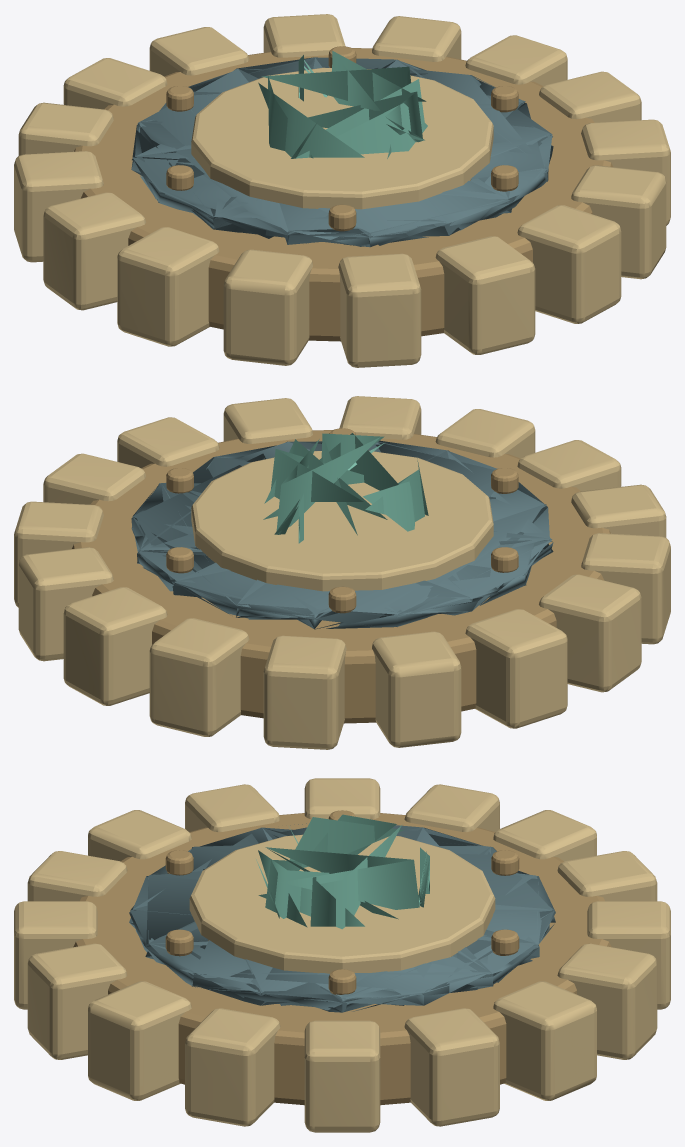
File: core.glb
3 renders of one model, top to bottom at view 1: azimuth 30°, elevation 25°; view 2: azimuth 150°, elevation 25°; view 3: azimuth 270°, elevation 25°, orthographic.
Parts seen in each view (by area): view 1: Surface_PolishedRim, Surface_Brass, Surface_Iron, Surface_MintLens; view 2: Surface_PolishedRim, Surface_Brass, Surface_Iron, Surface_MintLens; view 3: Surface_PolishedRim, Surface_Brass, Surface_Iron, Surface_MintLens.
Boxes of the visible parts, <box> form: Surface_PolishedRim: <box>14,14,670,367</box>; Surface_Brass: <box>74,46,612,341</box>; Surface_Iron: <box>131,57,553,247</box>; Surface_MintLens: <box>258,51,427,158</box>; Surface_PolishedRim: <box>14,396,670,749</box>; Surface_Brass: <box>72,428,610,723</box>; Surface_Iron: <box>131,440,553,629</box>; Surface_MintLens: <box>263,433,428,543</box>; Surface_PolishedRim: <box>14,778,670,1132</box>; Surface_Brass: <box>73,810,611,1105</box>; Surface_Iron: <box>129,823,555,1012</box>; Surface_MintLens: <box>256,814,429,929</box>.
Size of the model in its own units: 1.65 by 0.415 by 1.65.
